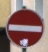No entry: (6, 6, 43, 47)
